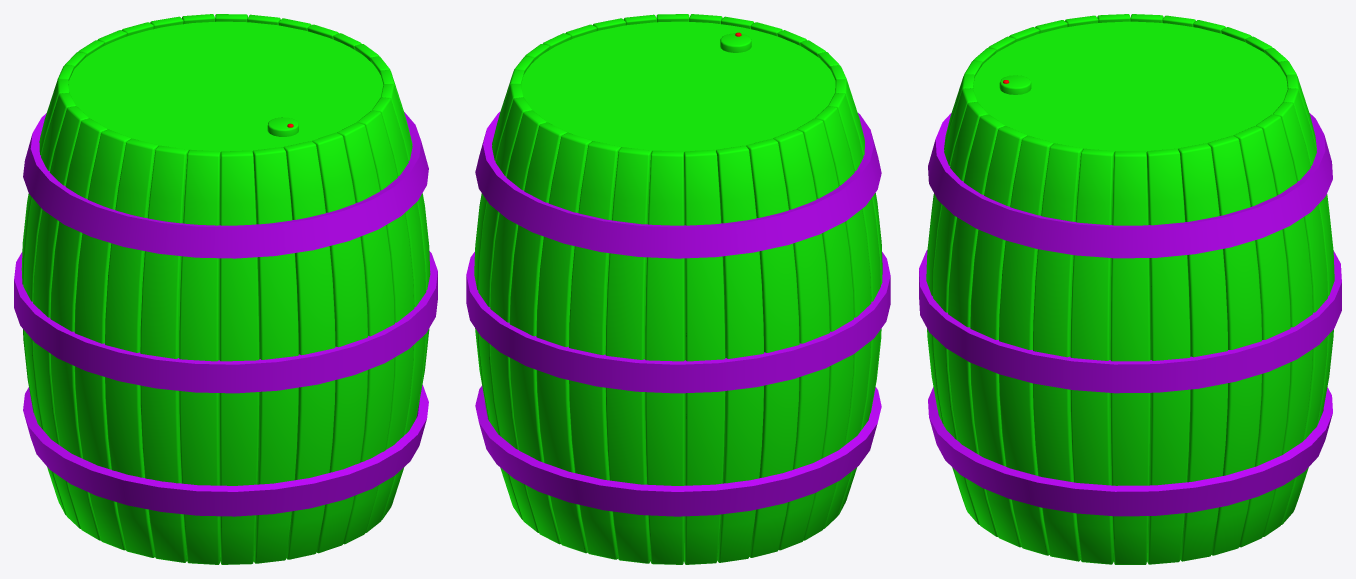
Rendered from Fass_v02.fbx.
The picture shows the model from 3 angles, left to right: view 1: azimuth 30°, elevation 25°; view 2: azimuth 150°, elevation 25°; view 3: azimuth 270°, elevation 25°; orthographic projection.
Visible parts, largest first — view 1: Sweep; view 2: Sweep; view 3: Sweep.
Boxes of the visible parts, box(x1,y1,x2,y2) form: Sweep: box(14, 14, 437, 564); Sweep: box(466, 14, 890, 564); Sweep: box(919, 14, 1341, 564).
Bounding box in the file's own units: 26.73 × 28.95 × 26.73.
